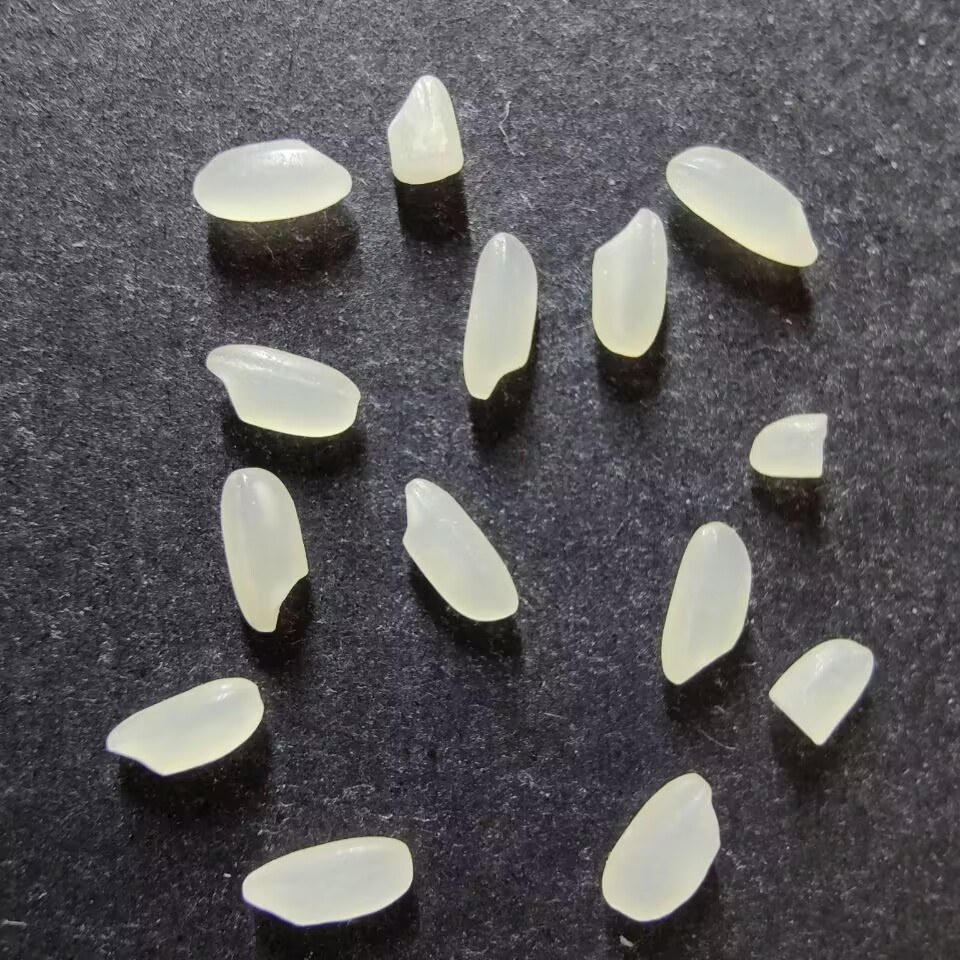broken: (766, 637, 874, 746), (386, 75, 464, 184), (748, 413, 828, 479)
rice: (664, 146, 819, 268), (601, 772, 721, 921), (401, 477, 518, 622), (105, 676, 264, 776), (241, 836, 414, 926), (660, 521, 752, 686), (219, 467, 309, 634), (205, 344, 360, 437), (192, 138, 351, 222), (461, 232, 537, 401), (589, 208, 668, 358)
